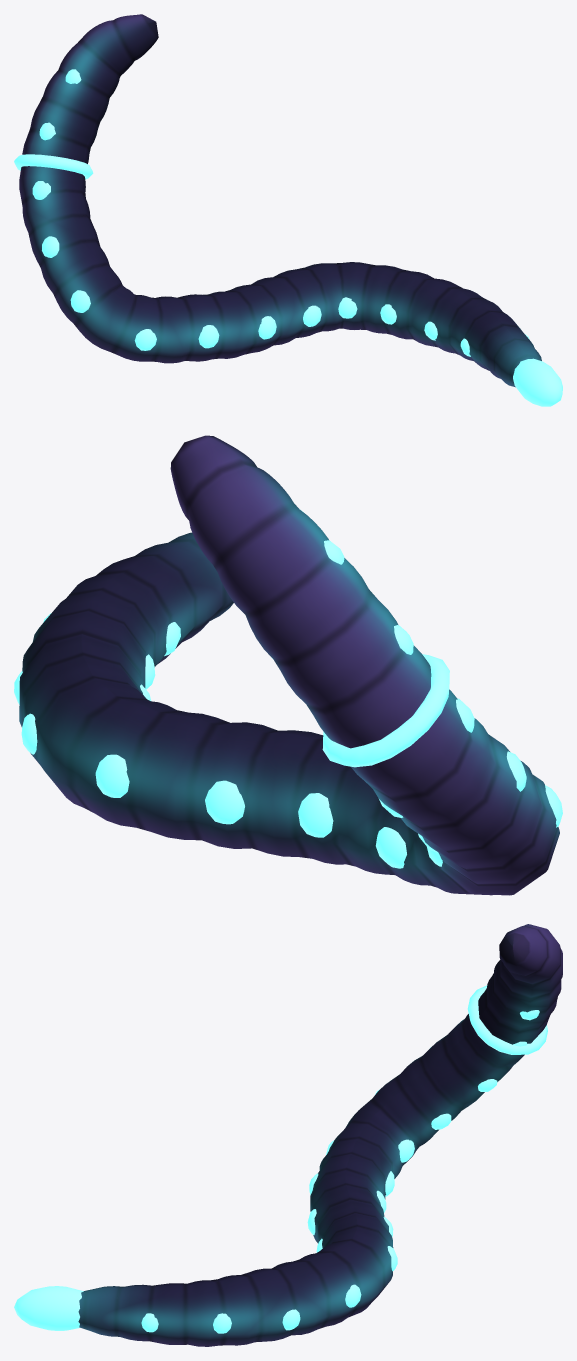
Rendered from GlowWorm.fbx.
The picture shows the model from 3 angles, top to bottom: view 1: azimuth 30°, elevation 25°; view 2: azimuth 150°, elevation 25°; view 3: azimuth 270°, elevation 25°; orthographic projection. The views are drawn at different scales.
Parts seen in each view (by area): view 1: GlowWorm, GlowWorm_Glow; view 2: GlowWorm, GlowWorm_Glow; view 3: GlowWorm, GlowWorm_Glow.
Boxes of the visible parts, x1,y1,x2,y2 form: GlowWorm: (19,14,541,387); GlowWorm_Glow: (14,69,562,406); GlowWorm: (19,435,559,895); GlowWorm_Glow: (14,509,562,868); GlowWorm: (78,924,562,1346); GlowWorm_Glow: (14,985,547,1333).
Size of the model in its own units: 78.34 by 60.35 by 96.51.
2 materials, 1 textured.
